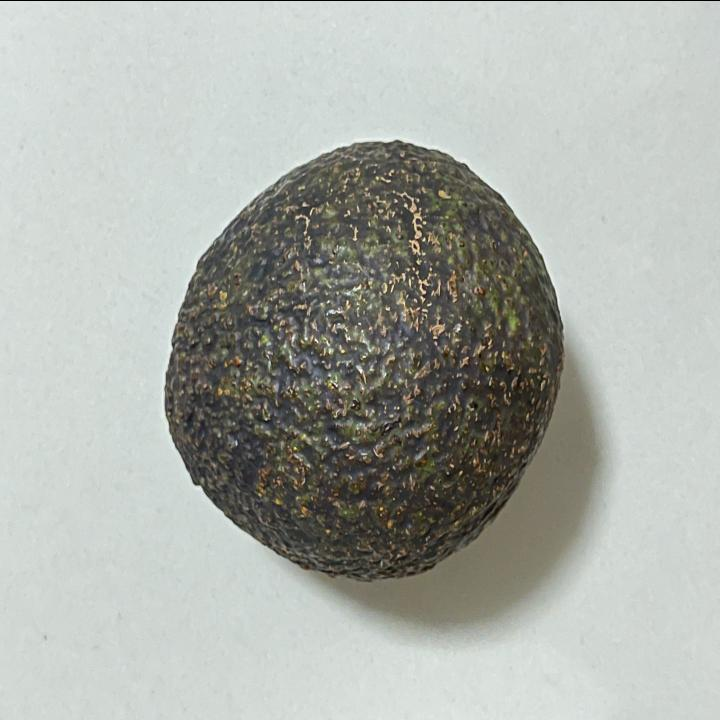Level2: (155, 132, 569, 592)
